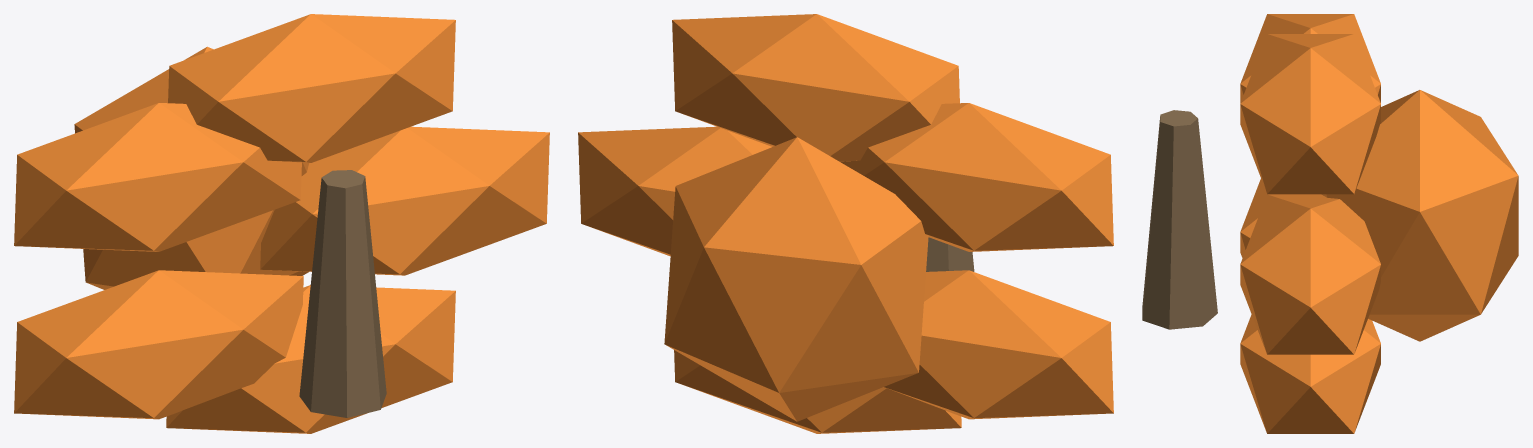
The model's file is drk_bush_orange.fbx.
3 renders of one model, left to right at view 1: azimuth 30°, elevation 25°; view 2: azimuth 150°, elevation 25°; view 3: azimuth 270°, elevation 25°, orthographic. The views are drawn at different scales.
Visible parts, largest first — view 1: GEO-leaf.003, GEO-leaf.001, GEO-leaf.002, GEO-leaf, GEO-bush_stem, GEO-leaf.004, GEO-leaf_top; view 2: GEO-leaf_top, GEO-leaf.001, GEO-leaf.002, GEO-leaf.003, GEO-leaf, GEO-leaf.004, GEO-bush_stem; view 3: GEO-leaf_top, GEO-leaf.001, GEO-leaf, GEO-bush_stem, GEO-leaf.004, GEO-leaf.002, GEO-leaf.003.
Part boxes in pixels (box(x1,y1,x2,y2)): GEO-leaf.003: box(14, 270, 303, 419); GEO-leaf.001: box(168, 14, 455, 162); GEO-leaf.002: box(14, 103, 301, 251); GEO-leaf: box(260, 126, 549, 275); GEO-bush_stem: box(299, 170, 386, 417); GEO-leaf.004: box(166, 285, 455, 433); GEO-leaf_top: box(74, 46, 309, 289); GEO-leaf_top: box(664, 137, 928, 421); GEO-leaf.001: box(672, 14, 959, 161); GEO-leaf.002: box(840, 103, 1113, 251); GEO-leaf.003: box(884, 270, 1113, 419); GEO-leaf: box(578, 126, 771, 256); GEO-leaf.004: box(674, 350, 961, 433); GEO-bush_stem: box(926, 237, 974, 271); GEO-leaf_top: box(1321, 90, 1518, 341); GEO-leaf.001: box(1240, 34, 1380, 194); GEO-leaf: box(1240, 194, 1380, 354); GEO-bush_stem: box(1142, 110, 1217, 329); GEO-leaf.004: box(1240, 314, 1380, 433); GEO-leaf.002: box(1240, 14, 1380, 102); GEO-leaf.003: box(1240, 179, 1266, 257).
Bounding box in the file's own units: 165 × 124 × 114.
